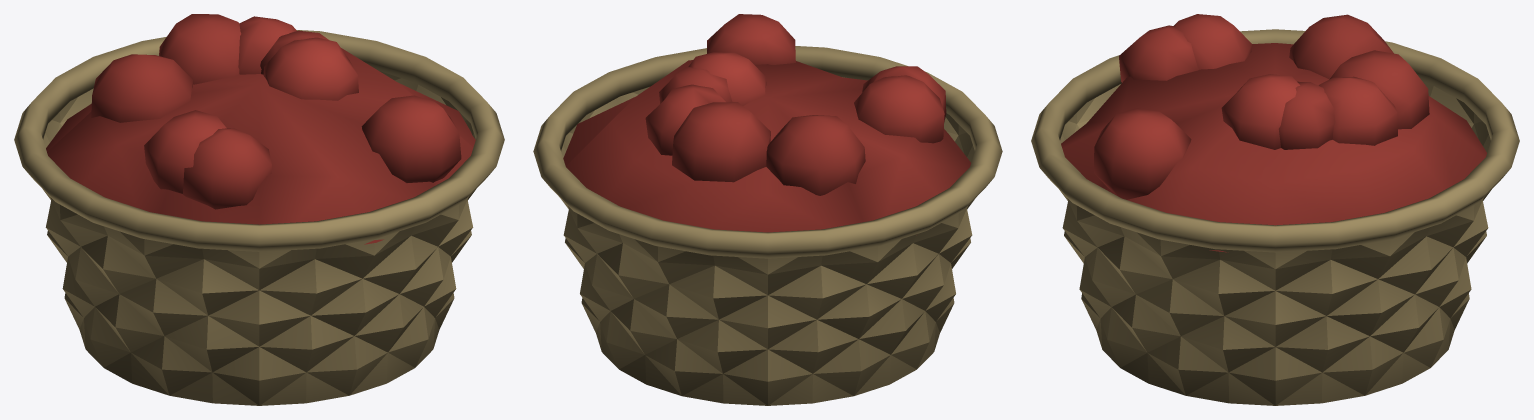
The model's file is basket_apples.glb.
The picture shows the model from 3 angles, left to right: view 1: azimuth 30°, elevation 25°; view 2: azimuth 150°, elevation 25°; view 3: azimuth 270°, elevation 25°; orthographic projection. The views are drawn at different scales.
Visible parts, largest first — view 1: basket_apples; view 2: basket_apples; view 3: basket_apples.
Boxes of the visible parts, x1,y1,x2,y2 form: basket_apples: (14, 14, 504, 405); basket_apples: (533, 14, 1002, 405); basket_apples: (1031, 14, 1519, 405).
Size of what is drawn, in the model's own units: 0.468 by 0.2918 by 0.468.
